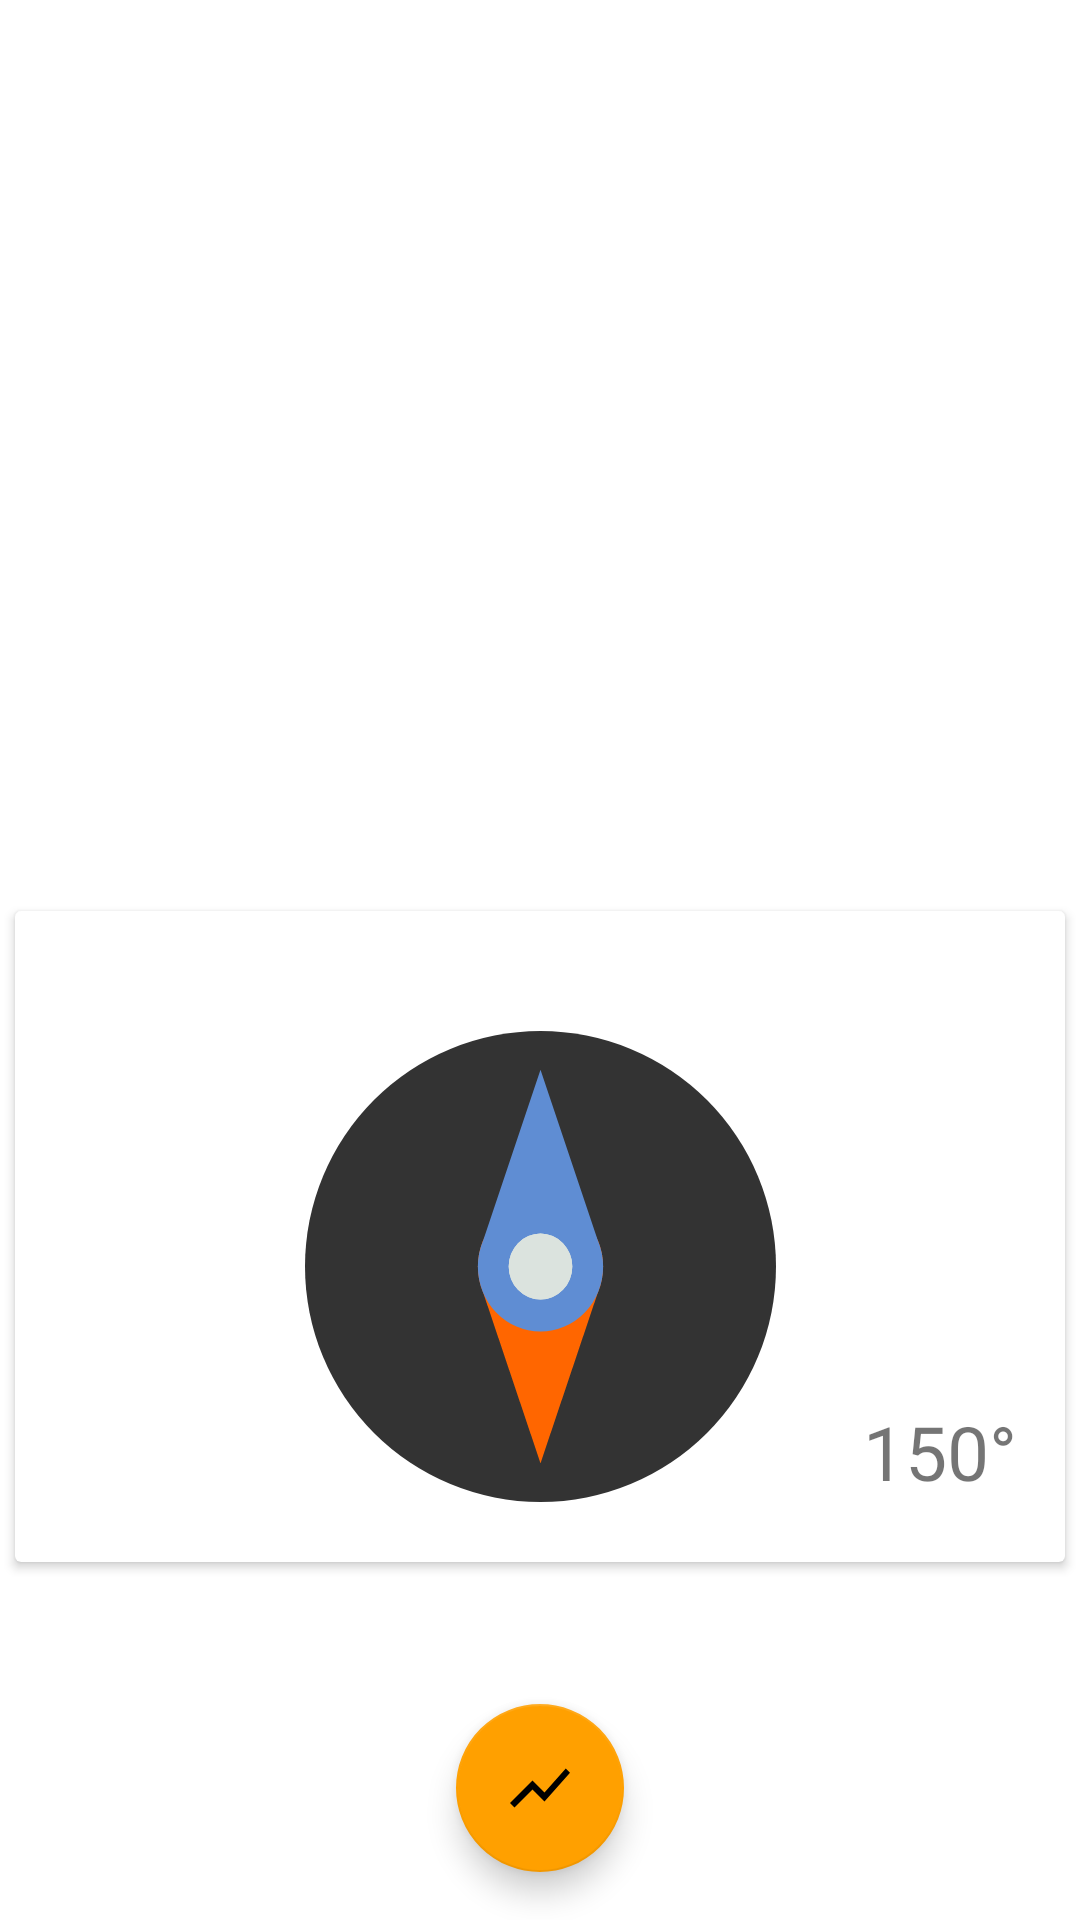

Named icons in this screenshot (1080 × 1920) and their centers, (x=x, y=y):
chart: (x=540, y=1788)
